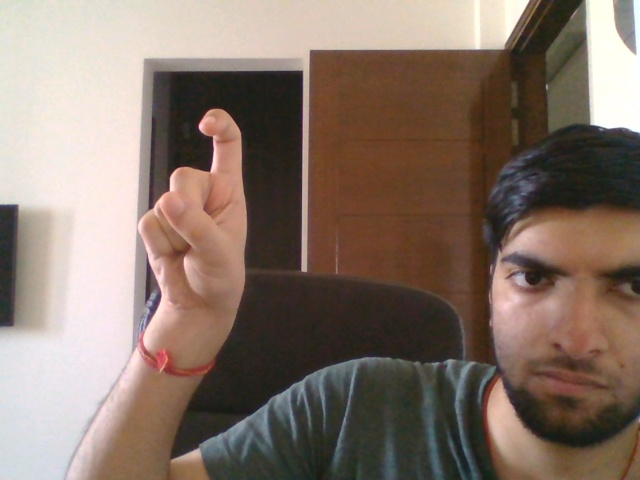LetterZ: (135, 104, 251, 315)
